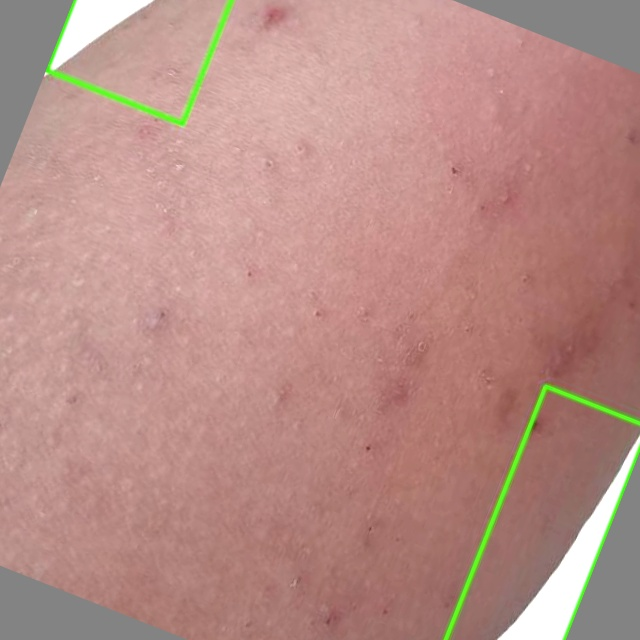Scabies: (445, 386, 639, 639)
